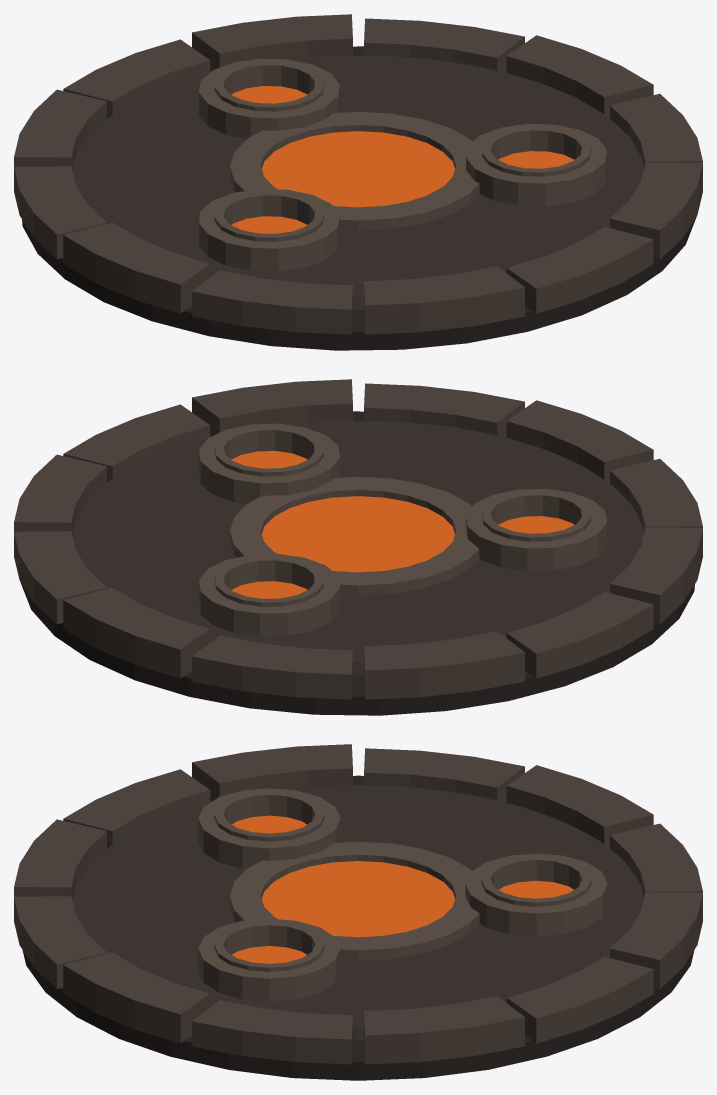
File: warp_altar.glb
3 views of the same model, one above another, from view 1: azimuth 30°, elevation 25°; view 2: azimuth 150°, elevation 25°; view 3: azimuth 270°, elevation 25° (orthographic).
Visible parts, largest first — view 1: WarpAltar_Base, WarpAltar_Rims, PortalDisc, SocketGlow_1, SocketGlow_2, SocketGlow_3; view 2: WarpAltar_Base, WarpAltar_Rims, PortalDisc, SocketGlow_1, SocketGlow_2, SocketGlow_3; view 3: WarpAltar_Base, WarpAltar_Rims, PortalDisc, SocketGlow_1, SocketGlow_2, SocketGlow_3.
Part boxes in pixels (x1,y1,x2,y2): WarpAltar_Base: (14, 14, 702, 350); WarpAltar_Rims: (199, 58, 606, 271); PortalDisc: (262, 131, 454, 207); SocketGlow_1: (231, 86, 307, 103); SocketGlow_2: (231, 216, 306, 233); SocketGlow_3: (499, 151, 574, 168); WarpAltar_Base: (14, 379, 702, 715); WarpAltar_Rims: (199, 423, 606, 636); PortalDisc: (262, 496, 454, 572); SocketGlow_1: (232, 581, 307, 598); SocketGlow_2: (498, 516, 574, 533); SocketGlow_3: (231, 451, 307, 468); WarpAltar_Base: (14, 744, 702, 1080); WarpAltar_Rims: (198, 788, 607, 1001); PortalDisc: (262, 861, 454, 937); SocketGlow_1: (499, 880, 573, 898); SocketGlow_2: (232, 815, 306, 833); SocketGlow_3: (232, 946, 306, 963).
Size of the model in its own units: 6 by 0.56 by 6.
